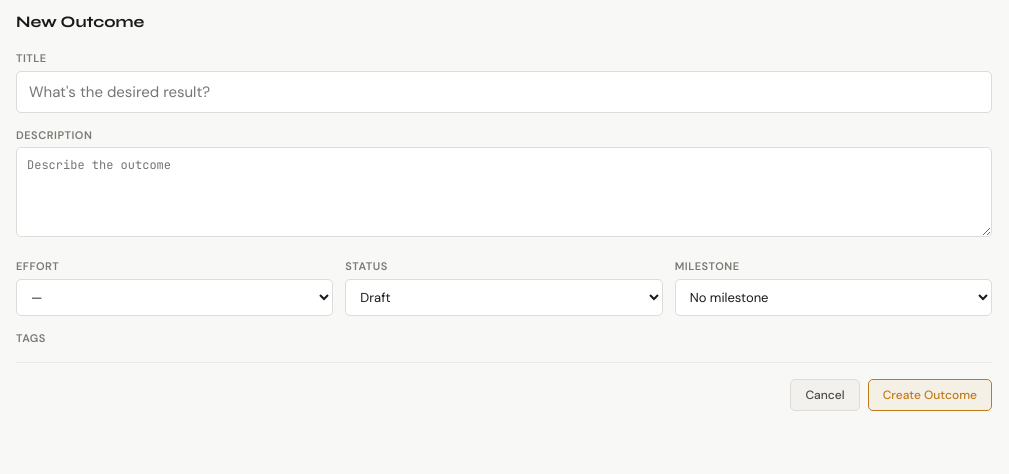
Test: OutcomeForm › shows error when title is empty
Step 1. Click the button "Create Outcome" → (930, 395), box [868,379,992,411]
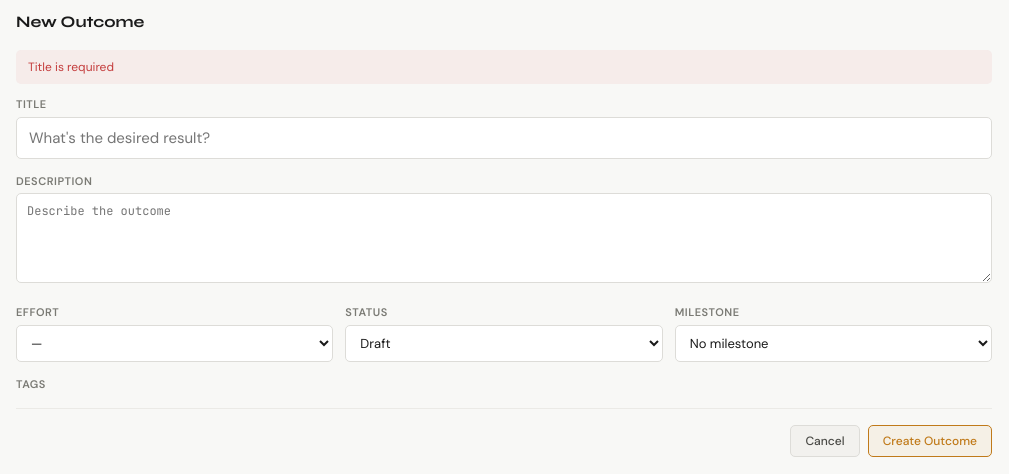
Expected: the text with class "form-error" reads "Title is required", [28,59,114,75]
